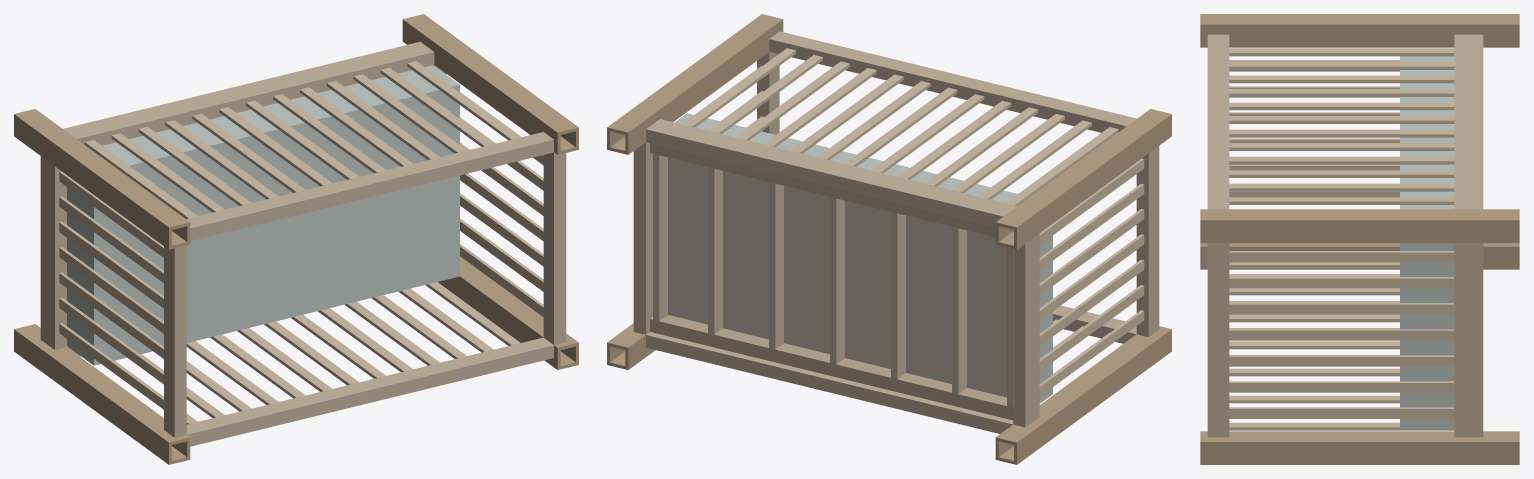
File: crib-v068-four-sides-web.glb
3 views of the same model, side by side, from view 1: azimuth 30°, elevation 25°; view 2: azimuth 150°, elevation 25°; view 3: azimuth 270°, elevation 25° (orthographic). The views are drawn at different scales.
Parts seen in each view (by area): view 1: MATTRESS_VISUAL_ONLY, POST3_X_LOW, POST1_X_LOW, POST4_X_LOW, FRONT_FUTURE_LOW_SIDE_B_B, LEFT_LOW_SIDE_A, FRONT_FUTURE_LOW_SIDE_B_A, FRONT_FUTURE_TOP_SIDE_B_B, REAR_TOP_SIDE_B_B, RIGHT_TOP_SIDE_A, LEFT_TOP_SIDE_A, POST4_Y_HIGH (+58 smaller); view 2: V067_BASE_32, V067_BASE_33, V067_BASE_31, POST3_X_LOW, POST1_X_LOW, MATTRESS_VISUAL_ONLY, POST4_X_LOW, FRONT_FUTURE_LOW_SIDE_B_B, LEFT_LOW_SIDE_A, FRONT_FUTURE_LOW_SIDE_B_A, FRONT_FUTURE_TOP_SIDE_B_B, LEFT_TOP_SIDE_A (+63 smaller); view 3: MATTRESS_VISUAL_ONLY, POST4_X_HIGH, POST2_X_HIGH, POST3_X_HIGH, RIGHT_LOW_SIDE_B, RIGHT_TOP_SIDE_B, POST3_Y_HIGH, RIGHT_SLAT_05, RIGHT_SLAT_04, RIGHT_SLAT_03, RIGHT_SLAT_02, RIGHT_SLAT_01 (+41 smaller).
Part boxes in pixels (x1,y1,x2,y2): MATTRESS_VISUAL_ONLY: (67,65,459,365); POST3_X_LOW: (14,113,171,249); POST1_X_LOW: (14,328,171,464); POST4_X_LOW: (402,18,560,154); FRONT_FUTURE_LOW_SIDE_B_B: (224,42,434,102); LEFT_LOW_SIDE_A: (40,156,57,349); FRONT_FUTURE_LOW_SIDE_B_A: (63,89,237,141); FRONT_FUTURE_TOP_SIDE_B_B: (347,132,553,190); REAR_TOP_SIDE_B_B: (347,337,553,396); RIGHT_TOP_SIDE_A: (543,152,556,344); LEFT_TOP_SIDE_A: (164,246,177,437); POST4_Y_HIGH: (406,15,575,134); V067_BASE_32: (784,186,890,368); V067_BASE_33: (668,157,768,339); V067_BASE_31: (906,215,1006,397); POST3_X_LOW: (1014,113,1171,249); POST1_X_LOW: (1014,328,1171,464); MATTRESS_VISUAL_ONLY: (674,113,1052,403); POST4_X_LOW: (625,18,783,154); FRONT_FUTURE_LOW_SIDE_B_B: (646,119,855,180); LEFT_LOW_SIDE_A: (1022,233,1039,427); FRONT_FUTURE_LOW_SIDE_B_A: (842,167,1017,218); FRONT_FUTURE_TOP_SIDE_B_B: (769,31,975,89); LEFT_TOP_SIDE_A: (1145,146,1159,337); MATTRESS_VISUAL_ONLY: (1400,56,1454,430); POST4_X_HIGH: (1200,218,1519,243); POST2_X_HIGH: (1200,440,1519,464); POST3_X_HIGH: (1200,23,1519,47); RIGHT_LOW_SIDE_B: (1454,243,1483,437); RIGHT_TOP_SIDE_B: (1207,243,1229,437); POST3_Y_HIGH: (1200,15,1519,23); RIGHT_SLAT_05: (1229,303,1454,314); RIGHT_SLAT_04: (1229,329,1454,340); RIGHT_SLAT_03: (1229,355,1454,366); RIGHT_SLAT_02: (1229,381,1454,392); RIGHT_SLAT_01: (1229,407,1454,418).
Size of the model in its own units: 1.34 by 0.744 by 0.88.
